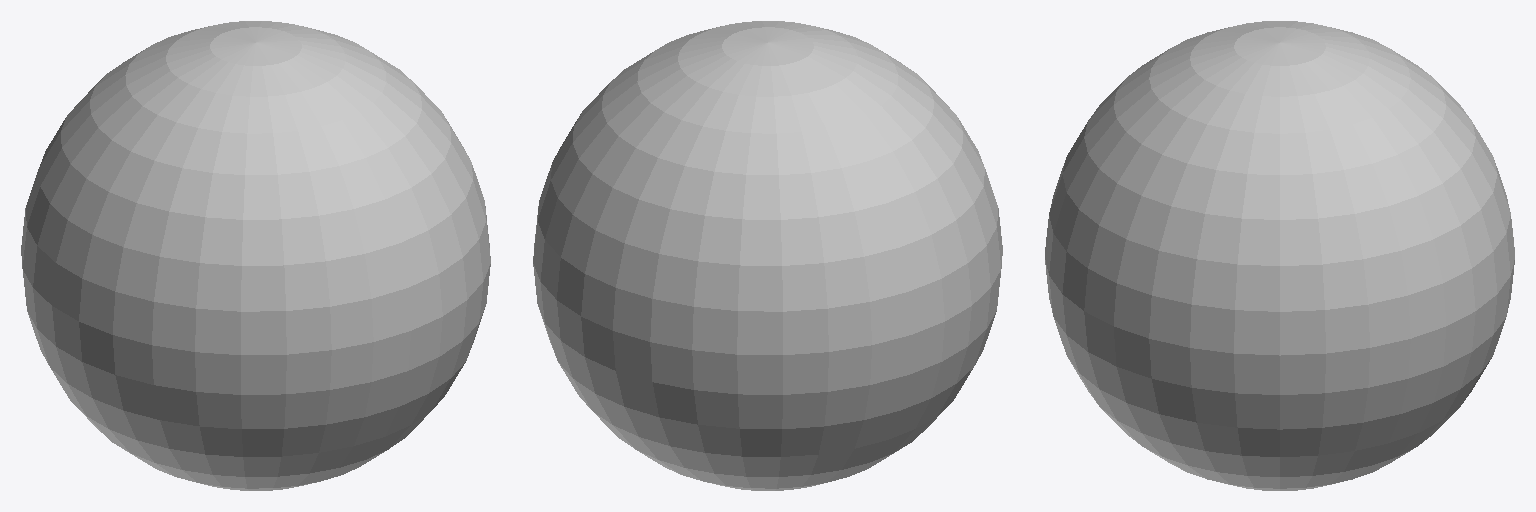
The model's file is circulo.obj.
3 renders of one model, left to right at view 1: azimuth 30°, elevation 25°; view 2: azimuth 150°, elevation 25°; view 3: azimuth 270°, elevation 25°, orthographic.
Parts seen in each view (by area): view 1: Sphere.005_Sphere.004; view 2: Sphere.005_Sphere.004; view 3: Sphere.005_Sphere.004.
Boxes of the visible parts, x1,y1,x2,y2 form: Sphere.005_Sphere.004: [21, 21, 490, 490]; Sphere.005_Sphere.004: [533, 21, 1002, 490]; Sphere.005_Sphere.004: [1045, 21, 1514, 490].
Size of the model in its own units: 0.5386 by 0.5386 by 0.5386.